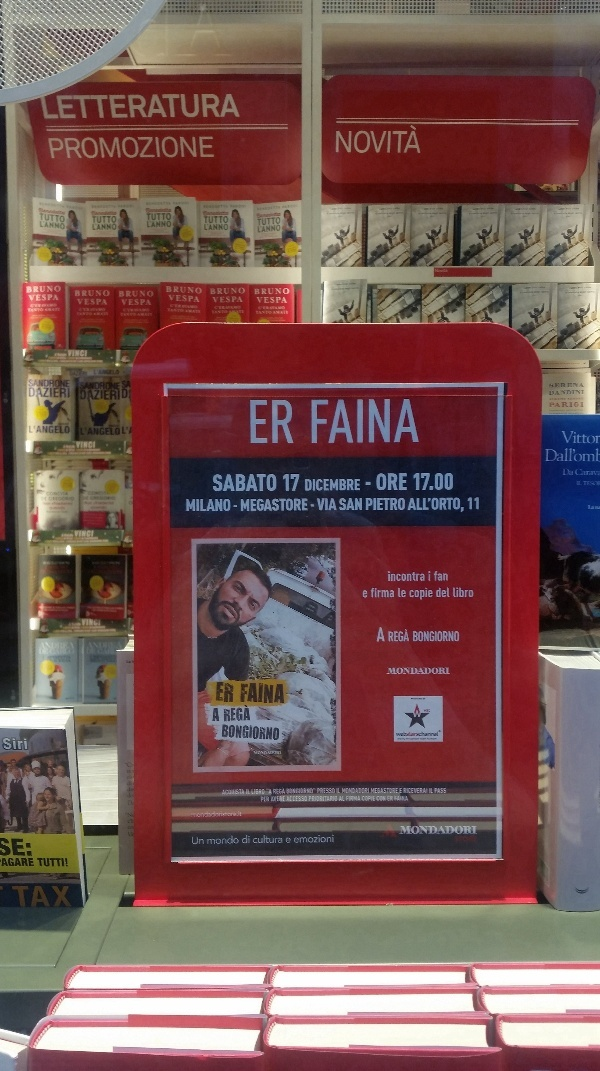text: (321, 399, 336, 445), (337, 399, 352, 445), (353, 399, 368, 445), (369, 399, 384, 445), (385, 399, 400, 445), (401, 399, 416, 445), (257, 400, 272, 445), (273, 400, 288, 445), (337, 121, 352, 157), (353, 121, 368, 157), (369, 121, 384, 157), (385, 121, 400, 157), (401, 121, 416, 157), (49, 91, 64, 125), (65, 91, 80, 125), (81, 91, 96, 125), (97, 91, 112, 125), (113, 91, 128, 125), (129, 91, 144, 125), (145, 91, 160, 125), (161, 91, 176, 125), (177, 91, 192, 125), (193, 91, 208, 125), (209, 91, 224, 125), (225, 91, 240, 125), (49, 136, 64, 163), (65, 136, 80, 163), (81, 136, 96, 163), (97, 136, 112, 163), (113, 136, 128, 163), (129, 136, 144, 163), (145, 136, 160, 163), (161, 136, 176, 163), (177, 136, 192, 163), (193, 136, 208, 163), (312, 399, 320, 445), (17, 885, 32, 909), (33, 885, 48, 909), (49, 885, 64, 909), (1, 837, 16, 858), (17, 837, 32, 858), (241, 683, 256, 704), (257, 683, 272, 704), (39, 91, 48, 125), (385, 474, 400, 492), (417, 473, 432, 491), (433, 473, 448, 491), (225, 474, 240, 492), (241, 474, 256, 492), (257, 474, 272, 492), (225, 704, 240, 722), (225, 724, 240, 741), (241, 724, 256, 741), (257, 724, 272, 741), (273, 683, 285, 704), (433, 498, 448, 513), (449, 498, 464, 513), (251, 400, 256, 445), (289, 400, 294, 445), (561, 448, 576, 463), (577, 448, 592, 463), (417, 587, 433, 601), (49, 641, 64, 655), (97, 641, 112, 655), (321, 498, 336, 512), (305, 478, 320, 492), (321, 478, 336, 492), (337, 478, 352, 492), (577, 431, 592, 445), (546, 448, 560, 463), (289, 474, 300, 492), (225, 681, 234, 703), (417, 497, 431, 511), (562, 431, 576, 445), (193, 499, 208, 512), (209, 499, 224, 512), (241, 499, 256, 512), (257, 499, 272, 512), (273, 499, 288, 512), (289, 499, 304, 512), (369, 498, 384, 511), (385, 498, 400, 511), (65, 885, 73, 909), (209, 136, 216, 163), (3, 737, 16, 751), (417, 121, 422, 157), (33, 387, 48, 399), (49, 387, 64, 399), (81, 389, 96, 401), (97, 389, 112, 401), (49, 857, 64, 869), (214, 474, 224, 492), (241, 704, 251, 722), (388, 628, 400, 643), (417, 631, 432, 643), (433, 631, 448, 643), (49, 213, 65, 224), (49, 220, 65, 231), (33, 378, 48, 389), (49, 378, 64, 389), (17, 857, 32, 868), (401, 825, 416, 836), (417, 825, 432, 836), (433, 825, 448, 836), (449, 825, 464, 836), (401, 571, 416, 582), (65, 641, 76, 655), (17, 737, 28, 751), (469, 497, 480, 511), (217, 681, 224, 703), (434, 571, 448, 582), (81, 427, 96, 437), (97, 427, 112, 437), (209, 836, 224, 846), (305, 834, 320, 844), (49, 207, 65, 216), (340, 498, 352, 510), (436, 587, 448, 599), (3, 857, 16, 868), (465, 825, 478, 836), (371, 588, 384, 599), (258, 224, 272, 234), (113, 641, 123, 655), (214, 708, 224, 722), (225, 836, 239, 846), (417, 399, 420, 445), (257, 217, 272, 226), (225, 287, 240, 296), (177, 294, 192, 303), (81, 382, 96, 391), (97, 382, 112, 391), (33, 426, 48, 435), (49, 426, 64, 435), (193, 810, 208, 819), (209, 810, 224, 819), (225, 810, 240, 819), (257, 835, 272, 844), (401, 628, 410, 643), (37, 857, 48, 869), (388, 571, 400, 582), (449, 631, 460, 643), (321, 834, 334, 844), (377, 474, 384, 492), (453, 588, 464, 599), (97, 216, 112, 224), (97, 223, 112, 231), (209, 216, 224, 224), (209, 224, 224, 232), (225, 296, 240, 304), (177, 286, 192, 294), (33, 294, 48, 302), (81, 441, 96, 449), (97, 655, 112, 663), (353, 498, 363, 510), (273, 787, 288, 795), (401, 667, 416, 675), (417, 667, 432, 675), (433, 667, 448, 675), (273, 724, 280, 741), (211, 287, 224, 296), (243, 835, 256, 844), (82, 619, 96, 627), (353, 478, 361, 492), (385, 588, 395, 599), (401, 474, 407, 492), (257, 288, 272, 295), (273, 288, 288, 295), (257, 297, 272, 304), (273, 297, 288, 304), (129, 291, 144, 298), (129, 299, 144, 306), (81, 290, 96, 297), (81, 299, 96, 306), (33, 286, 48, 293), (49, 202, 64, 209), (177, 307, 192, 314), (97, 369, 112, 376), (225, 789, 240, 796), (289, 796, 304, 803), (337, 788, 352, 795), (353, 788, 368, 795), (561, 402, 576, 409), (593, 448, 600, 463), (577, 469, 592, 476), (147, 213, 160, 221), (81, 530, 94, 538), (563, 468, 576, 476), (294, 834, 304, 844), (193, 836, 204, 845), (465, 588, 474, 599), (41, 641, 48, 655), (89, 641, 96, 655), (321, 788, 335, 795), (593, 431, 600, 445), (273, 310, 289, 316), (68, 350, 80, 358), (12, 885, 16, 909), (388, 667, 400, 675), (97, 290, 110, 297), (83, 495, 96, 502), (371, 788, 384, 795), (385, 788, 398, 795), (209, 210, 224, 216), (177, 303, 192, 309), (257, 310, 272, 316), (49, 656, 64, 662), (97, 561, 112, 567), (273, 835, 283, 844), (289, 789, 304, 795), (321, 796, 336, 802), (561, 383, 576, 389), (561, 390, 576, 396), (40, 213, 48, 224), (40, 220, 48, 231), (213, 296, 224, 304), (417, 571, 425, 582), (148, 221, 160, 228), (49, 286, 61, 293), (113, 389, 120, 401), (273, 796, 285, 803), (410, 587, 416, 601), (39, 207, 48, 216), (161, 213, 171, 221), (273, 224, 281, 234), (166, 286, 176, 294), (49, 294, 59, 302), (225, 305, 241, 310), (113, 427, 121, 437), (225, 499, 231, 512), (435, 788, 448, 794), (161, 221, 172, 228), (261, 796, 272, 803), (549, 402, 560, 409), (97, 211, 112, 216), (257, 206, 272, 211), (257, 213, 272, 218), (33, 314, 48, 319), (81, 318, 96, 323), (129, 312, 144, 317), (129, 318, 144, 323), (225, 309, 240, 314), (49, 491, 64, 496), (49, 502, 64, 507), (97, 496, 112, 501), (577, 481, 592, 486), (273, 217, 281, 226), (193, 286, 202, 294), (122, 388, 128, 400), (113, 382, 121, 391), (449, 473, 453, 491), (284, 474, 288, 492), (273, 474, 277, 492), (340, 796, 352, 802), (388, 796, 400, 802), (404, 788, 416, 794), (420, 731, 432, 737), (97, 299, 107, 306), (146, 208, 160, 213), (50, 506, 64, 511), (411, 497, 416, 511), (246, 789, 256, 796), (342, 788, 352, 795), (241, 91, 243, 125), (309, 796, 320, 802), (417, 788, 428, 794), (401, 588, 407, 599), (549, 390, 560, 396), (97, 491, 110, 496), (187, 499, 192, 512), (380, 627, 384, 643), (169, 294, 176, 303), (193, 294, 200, 303), (119, 291, 128, 298), (145, 291, 154, 298), (583, 480, 592, 487), (97, 205, 112, 209), (209, 205, 224, 209), (33, 304, 48, 308), (81, 308, 96, 312), (81, 312, 96, 316), (129, 309, 144, 313), (212, 309, 224, 314), (337, 287, 352, 291), (529, 290, 544, 294), (49, 356, 64, 360), (65, 387, 70, 399), (49, 497, 64, 501), (49, 510, 64, 514), (97, 501, 112, 505), (49, 561, 64, 565), (257, 751, 272, 755), (550, 383, 560, 389), (40, 202, 48, 209), (146, 202, 160, 206), (337, 207, 351, 211), (168, 307, 176, 314), (193, 307, 201, 314), (353, 795, 361, 802), (33, 308, 44, 313), (65, 378, 70, 389), (65, 445, 76, 450), (69, 623, 80, 628), (122, 380, 128, 389), (122, 426, 128, 435), (407, 732, 416, 738), (67, 206, 80, 210), (561, 212, 574, 216), (259, 306, 272, 310), (273, 306, 286, 310), (435, 269, 448, 273), (401, 498, 405, 511), (161, 208, 171, 213), (97, 318, 107, 323), (121, 299, 128, 306), (145, 299, 152, 306), (113, 369, 120, 376), (577, 402, 584, 409), (593, 469, 600, 476), (593, 480, 600, 487), (593, 505, 600, 512), (516, 208, 528, 212), (97, 312, 109, 316), (81, 350, 87, 358), (90, 655, 96, 663), (65, 857, 69, 869), (257, 789, 265, 795), (305, 789, 313, 795), (401, 796, 409, 802), (577, 383, 585, 389), (49, 314, 58, 319), (215, 305, 224, 310), (577, 291, 592, 294), (65, 426, 70, 435), (129, 761, 134, 770), (363, 590, 368, 599), (49, 308, 60, 312), (85, 501, 96, 505), (428, 571, 432, 582), (113, 561, 120, 567), (317, 498, 320, 512), (346, 795, 352, 802), (369, 796, 376, 802), (377, 796, 384, 802), (401, 731, 407, 738), (577, 390, 584, 396), (161, 202, 171, 206), (230, 205, 240, 209), (273, 213, 281, 218), (145, 312, 153, 317), (65, 497, 75, 501), (65, 502, 73, 507), (88, 491, 96, 496), (97, 506, 107, 510), (75, 530, 80, 538), (129, 767, 134, 775), (305, 499, 308, 512), (241, 287, 245, 296), (177, 202, 189, 205), (327, 212, 336, 216), (97, 308, 106, 312), (529, 286, 538, 290), (55, 353, 64, 357), (29, 387, 32, 399), (65, 656, 71, 662), (129, 832, 135, 838), (311, 504, 320, 508), (273, 751, 282, 755), (362, 796, 368, 802), (433, 731, 439, 737), (413, 631, 416, 643), (75, 290, 80, 297), (27, 286, 32, 293), (273, 206, 280, 211), (121, 312, 128, 317), (129, 786, 134, 793), (341, 212, 352, 215), (469, 212, 480, 215), (337, 283, 348, 286), (565, 291, 576, 294), (29, 378, 32, 389), (92, 216, 96, 224), (113, 216, 117, 224), (113, 223, 117, 231), (204, 216, 208, 224), (204, 224, 208, 232), (28, 294, 32, 302), (49, 304, 57, 308), (520, 290, 528, 294), (76, 441, 80, 449), (97, 619, 101, 627), (113, 655, 117, 663), (424, 709, 432, 713), (203, 210, 208, 216), (385, 212, 395, 215), (529, 208, 544, 210), (513, 213, 528, 215), (561, 208, 571, 211), (171, 303, 176, 309), (193, 303, 198, 309), (42, 496, 48, 501), (90, 496, 96, 501), (129, 775, 135, 780), (129, 793, 134, 799), (129, 800, 134, 806), (129, 812, 134, 818), (395, 796, 400, 802), (406, 738, 416, 741), (417, 738, 427, 741), (550, 398, 560, 401), (289, 205, 296, 209), (578, 295, 592, 297), (241, 789, 245, 796), (396, 731, 400, 738), (588, 505, 592, 512), (119, 205, 128, 208), (375, 212, 384, 215), (487, 207, 496, 210), (129, 380, 132, 389), (29, 426, 32, 435), (65, 534, 74, 537), (253, 835, 256, 844), (417, 698, 426, 701), (339, 215, 352, 217), (387, 216, 400, 218), (366, 498, 368, 511), (145, 318, 150, 323), (93, 223, 96, 231), (225, 216, 228, 224), (225, 224, 228, 232), (241, 296, 244, 304), (225, 210, 229, 216), (282, 205, 288, 209), (481, 212, 489, 215), (353, 287, 359, 291), (92, 561, 96, 567), (252, 789, 256, 795), (568, 398, 576, 401), (437, 208, 448, 210), (533, 294, 544, 296), (33, 857, 35, 868), (398, 588, 400, 599), (77, 299, 80, 306), (385, 208, 392, 211), (393, 207, 400, 210), (473, 208, 480, 211), (569, 287, 576, 290), (577, 287, 584, 290), (33, 837, 34, 858), (129, 780, 132, 787), (429, 788, 432, 795), (577, 398, 584, 401), (92, 211, 96, 216), (113, 211, 117, 216), (241, 205, 246, 209), (331, 207, 336, 211), (422, 208, 432, 210), (555, 212, 560, 216), (28, 308, 32, 313), (145, 309, 150, 313), (65, 491, 69, 496), (44, 502, 48, 507), (91, 506, 96, 510), (43, 561, 48, 565), (65, 561, 70, 565), (129, 820, 134, 824), (129, 826, 134, 830), (439, 212, 448, 214), (343, 291, 352, 293), (234, 505, 240, 508), (415, 473, 416, 491), (417, 732, 420, 738), (223, 724, 224, 741), (92, 205, 96, 209), (113, 205, 117, 209), (204, 205, 208, 209), (124, 309, 128, 313), (332, 287, 336, 291), (524, 286, 528, 290), (545, 290, 549, 294), (584, 287, 592, 289), (449, 667, 451, 675), (385, 627, 386, 643), (129, 205, 134, 208), (379, 208, 384, 211), (481, 208, 486, 211), (241, 309, 244, 314), (113, 496, 116, 501), (411, 698, 416, 701), (401, 738, 406, 741), (427, 738, 432, 741), (433, 738, 438, 741), (561, 398, 566, 401), (94, 369, 96, 376), (337, 498, 338, 512), (305, 796, 307, 803), (286, 837, 288, 844), (289, 837, 291, 844), (318, 788, 320, 795), (419, 213, 432, 214), (531, 213, 544, 214), (81, 206, 84, 210), (225, 205, 228, 209), (337, 212, 340, 216), (396, 212, 400, 215), (490, 213, 496, 215), (77, 312, 80, 316), (65, 510, 68, 514), (270, 789, 272, 795), (449, 587, 450, 599), (523, 216, 528, 218), (577, 213, 582, 215), (566, 216, 576, 217), (126, 318, 128, 323), (539, 287, 544, 289), (46, 491, 48, 496), (207, 836, 208, 846), (173, 202, 176, 205), (401, 212, 404, 215), (349, 282, 352, 285), (353, 282, 356, 285), (241, 810, 242, 819), (572, 208, 576, 210), (46, 308, 48, 312), (65, 353, 67, 357), (129, 660, 131, 664), (127, 767, 128, 775), (366, 482, 368, 486), (369, 482, 371, 486), (255, 288, 256, 295), (289, 288, 290, 295), (127, 780, 128, 787), (223, 789, 224, 796), (369, 788, 370, 795), (433, 788, 434, 795), (575, 469, 576, 476), (353, 212, 355, 215), (433, 208, 436, 210), (558, 208, 560, 211), (255, 310, 256, 316), (593, 291, 595, 294), (62, 534, 64, 537), (47, 656, 48, 662), (287, 789, 288, 795), (337, 796, 338, 802), (385, 796, 386, 802), (399, 788, 400, 794), (401, 788, 402, 794), (398, 738, 400, 741), (433, 213, 438, 214), (63, 445, 64, 450), (65, 506, 66, 511), (127, 775, 128, 780), (433, 216, 435, 218), (529, 213, 531, 215), (577, 208, 579, 210), (31, 304, 32, 308), (65, 356, 66, 360), (47, 510, 48, 514), (113, 501, 114, 505), (127, 660, 128, 664), (255, 751, 256, 755), (335, 283, 336, 286), (431, 216, 432, 218), (497, 213, 498, 215), (511, 213, 512, 215), (575, 213, 576, 215)
